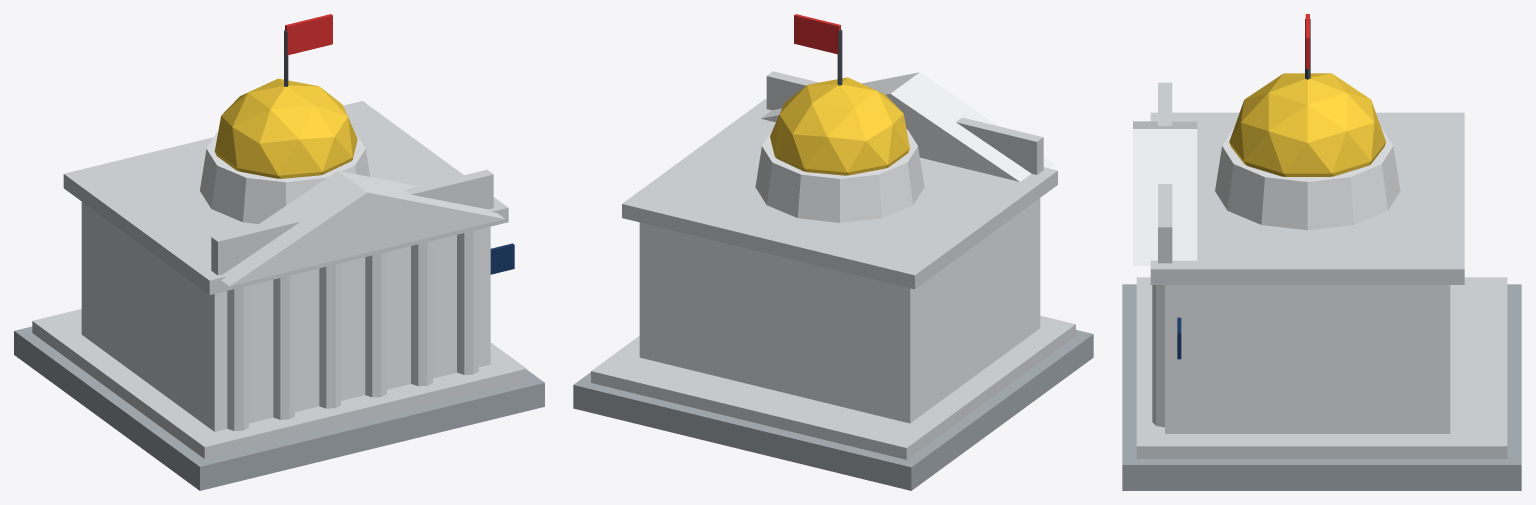
Rendered from townhall_governo.glb.
The picture shows the model from 3 angles, left to right: view 1: azimuth 30°, elevation 25°; view 2: azimuth 150°, elevation 25°; view 3: azimuth 270°, elevation 25°; orthographic projection. The views are drawn at different scales.
Parts seen in each view (by area): view 1: branco.002, cinza_claro, pedra.005, dourado, bandeira.001, azul_marinho.001; view 2: branco.002, cinza_claro, pedra.005, dourado, bandeira.001; view 3: branco.002, cinza_claro, pedra.005, dourado.
Part boxes in pixels (x1,y1,x2,y2): branco.002: (81, 131, 504, 431); cinza_claro: (32, 101, 526, 458); pedra.005: (14, 326, 544, 490); dourado: (214, 78, 357, 178); bandeira.001: (285, 14, 332, 55); azul_marinho.001: (490, 243, 514, 274); branco.002: (639, 72, 1054, 423); cinza_claro: (591, 71, 1075, 459); pedra.005: (573, 330, 1093, 490); dourado: (770, 77, 909, 175); bandeira.001: (794, 14, 840, 54); branco.002: (1133, 121, 1450, 433); cinza_claro: (1136, 82, 1507, 458); pedra.005: (1122, 284, 1521, 490); dourado: (1229, 73, 1385, 176).
Bounding box in the file's own units: 3 × 2.99 × 2.8.
